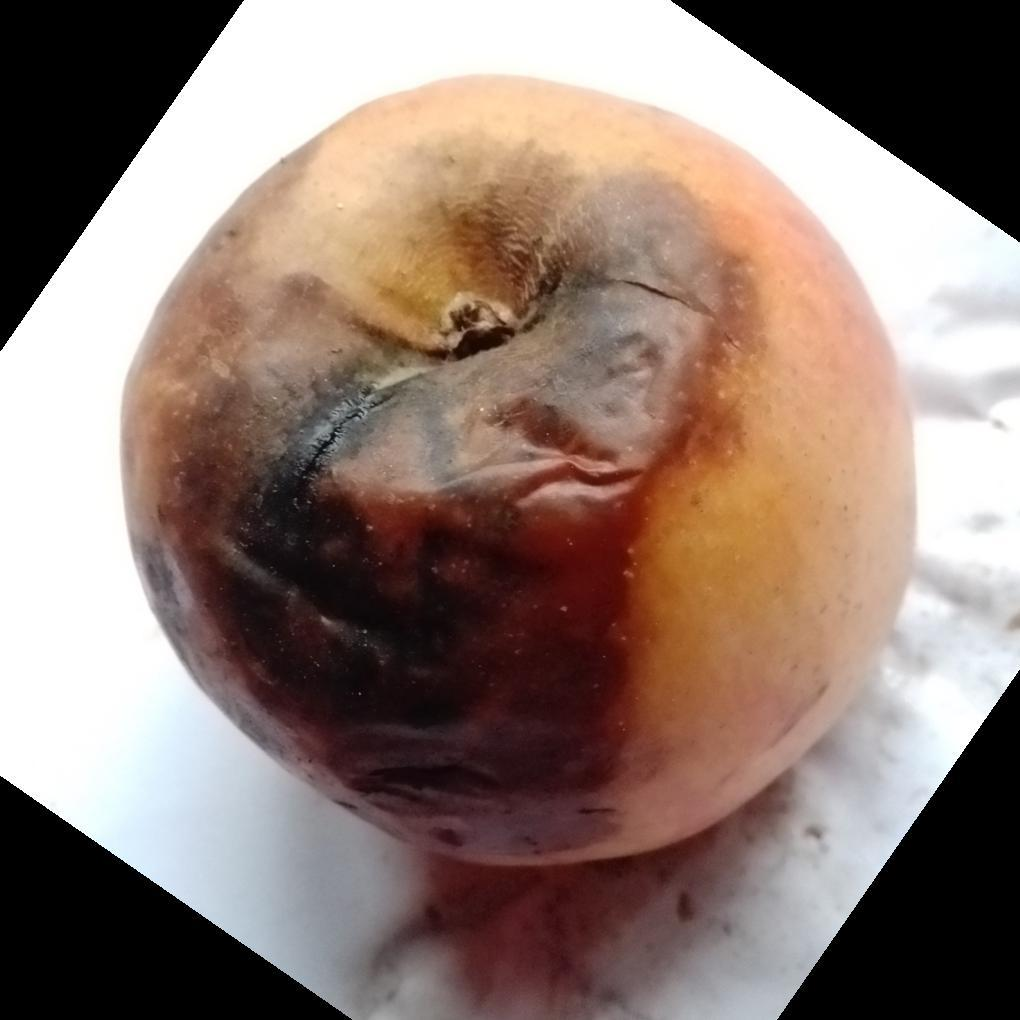FreshOrange: (117, 75, 920, 905)
